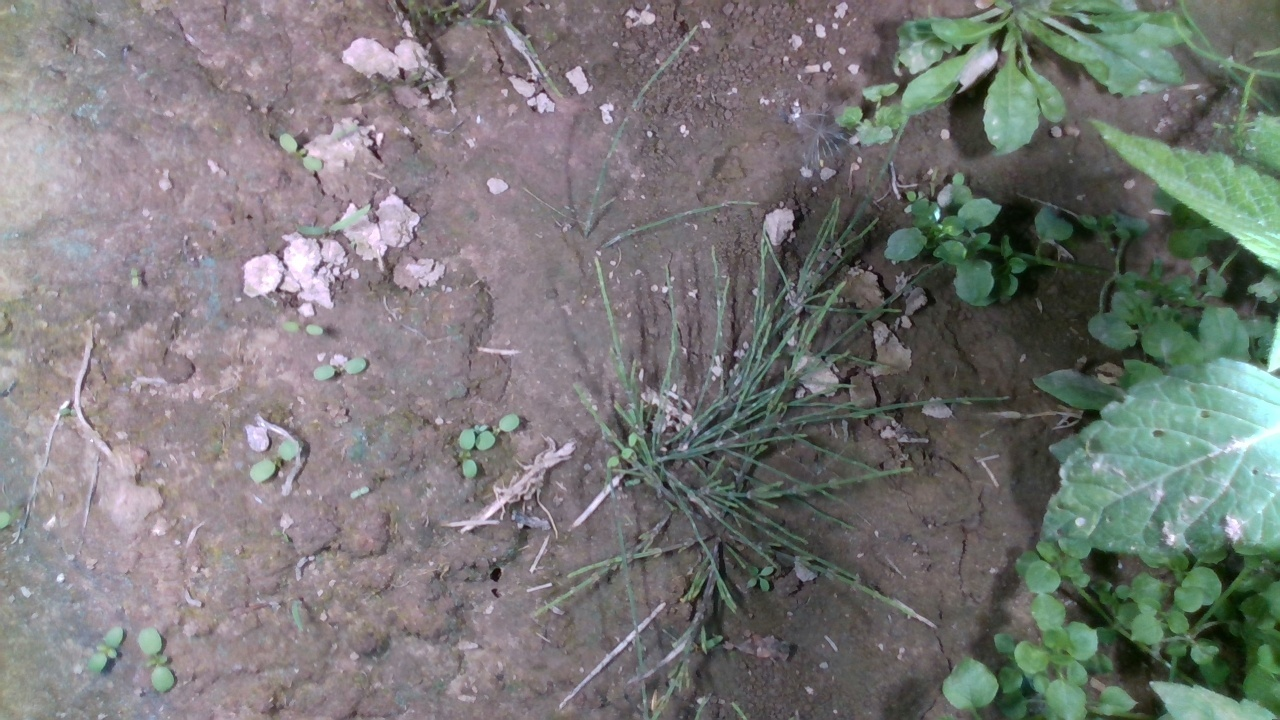weed: (137, 625, 175, 693), (248, 439, 298, 483), (86, 624, 124, 674), (277, 132, 324, 171), (312, 355, 368, 380), (280, 320, 324, 337)
